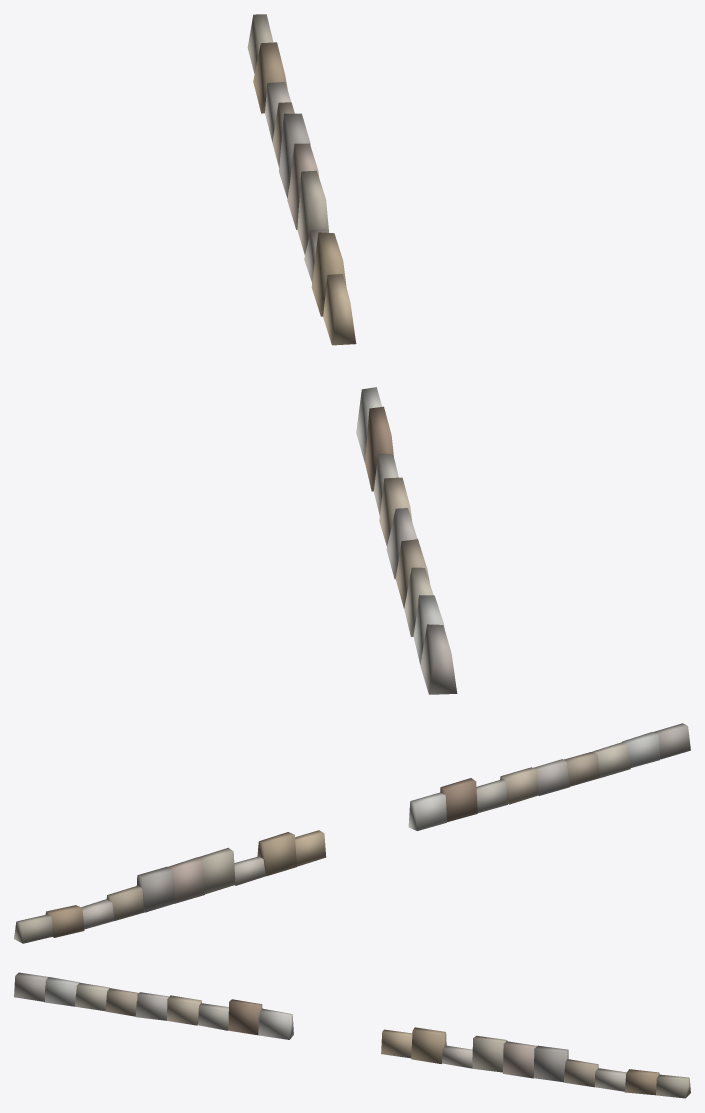
The model's file is farm_-4_10_far.glb.
3 renders of one model, top to bottom at view 1: azimuth 30°, elevation 25°; view 2: azimuth 150°, elevation 25°; view 3: azimuth 270°, elevation 25°, orthographic. The views are drawn at different scales.
Parts seen in each view (by area): view 1: geometry_0; view 2: geometry_0; view 3: geometry_0.
Boxes of the visible parts, <box> form: geometry_0: <box>247,14,457,694</box>; geometry_0: <box>14,723,690,943</box>; geometry_0: <box>14,972,690,1098</box>.
Bounding box in the file's own units: 14.02 × 2.13 × 32.15.
